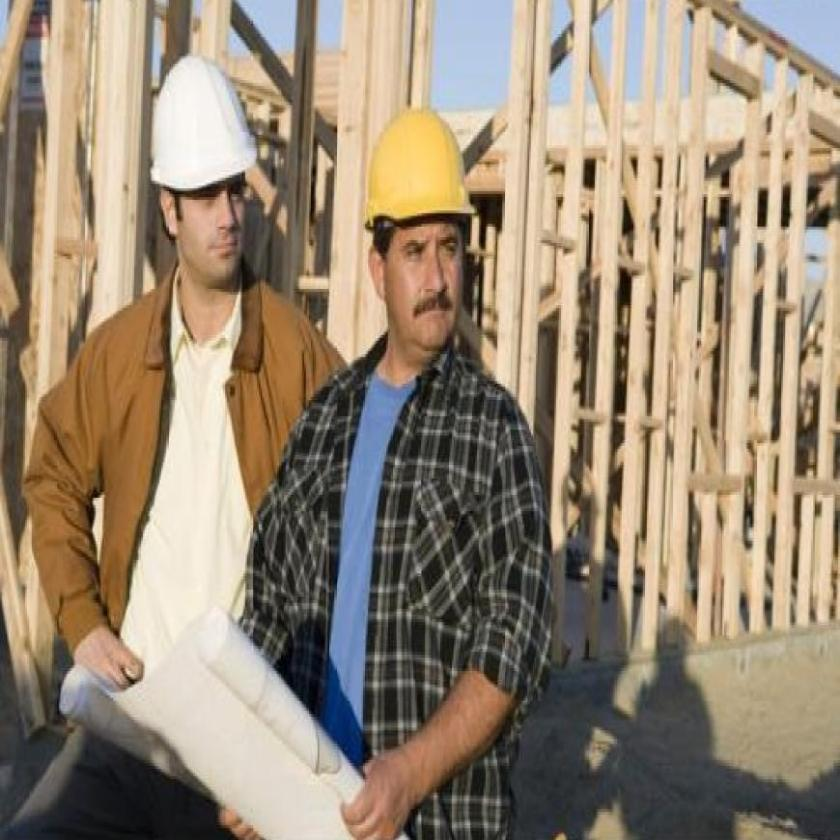Con_casco: (138, 48, 270, 291), (366, 97, 490, 340)
